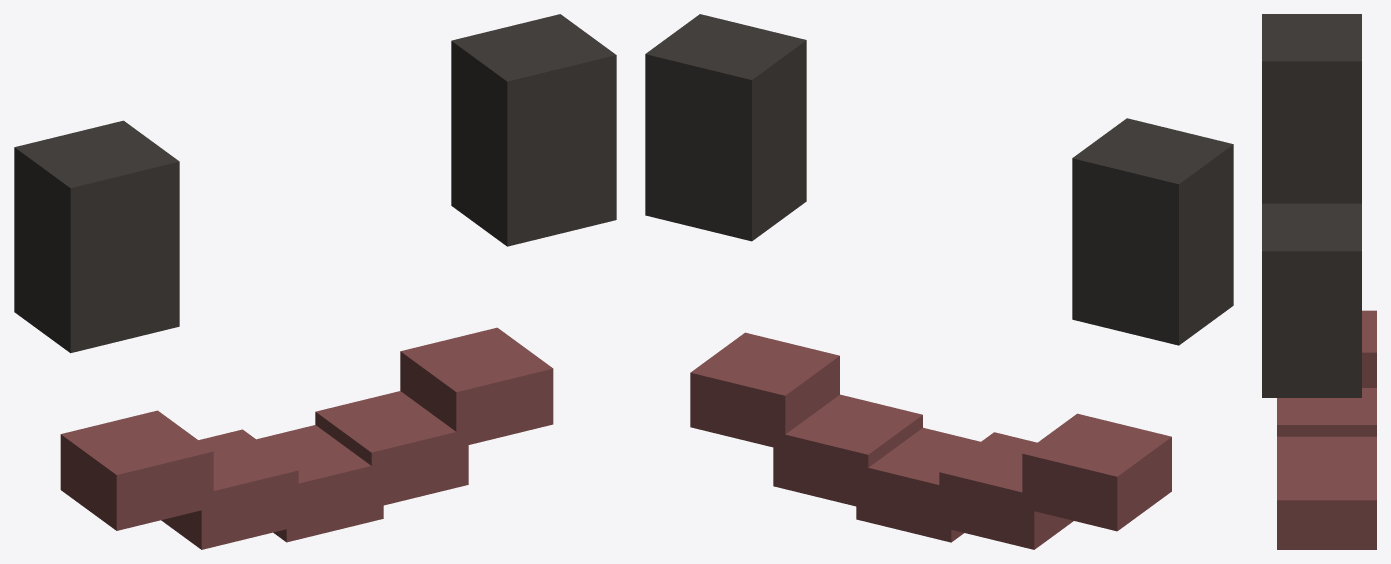
The model's file is av_face_smile.glb.
The picture shows the model from 3 angles, left to right: view 1: azimuth 30°, elevation 25°; view 2: azimuth 150°, elevation 25°; view 3: azimuth 270°, elevation 25°; orthographic projection. The views are drawn at different scales.
Size of the model in its own units: 0.225 by 0.1635 by 0.046.
